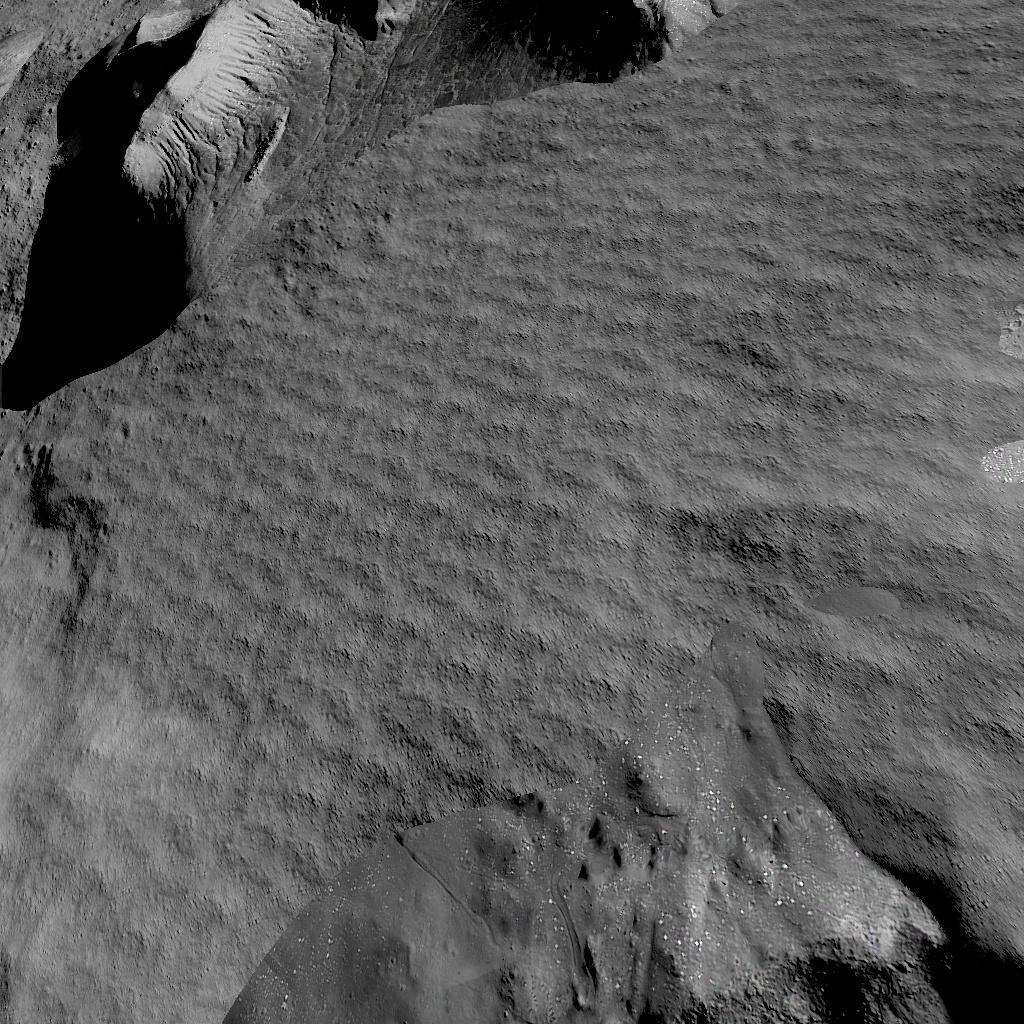Boulders: (0, 0, 727, 418)
Crater: (226, 808, 1024, 1024)
Plan surface: (0, 430, 1024, 795), (741, 0, 1024, 418), (0, 808, 216, 1024)
